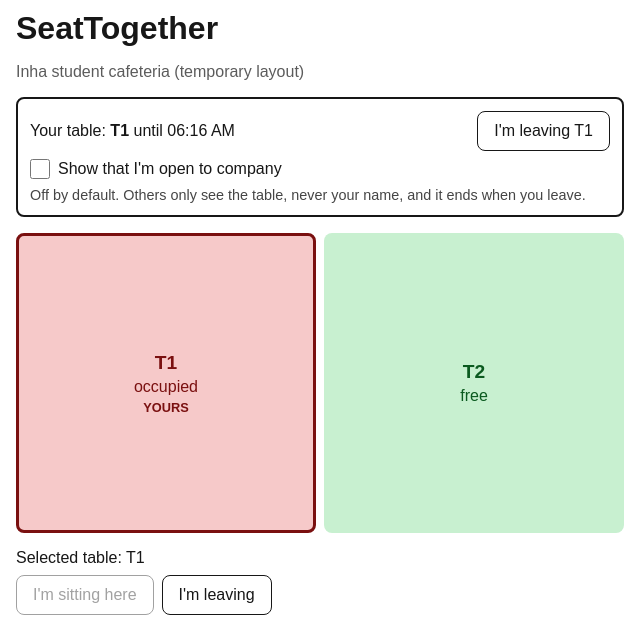
C1 my check-in (#34, #32) › #34: after a reload, shows which table is mine and can free it
This screenshot has width=641, height=632.
Check: the text "Your table: T1 until 06:16 AM" is shown, box [30,122,235,140]
Check: the button "T1 occupied yours" is shown, box [16,233,316,533]
Click the button "I'm leaving T1" at (544, 131), box [477,111,610,151]
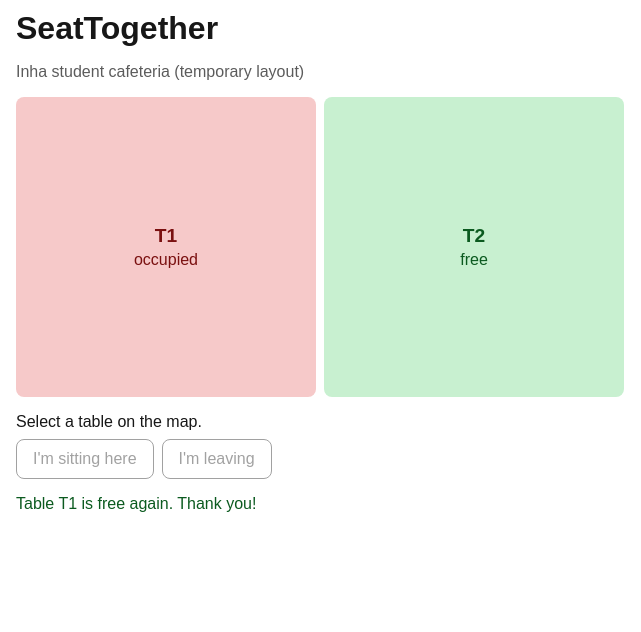
Check: the text "Table T1 is free again. Thank you!" is shown, box [16,495,256,512]
